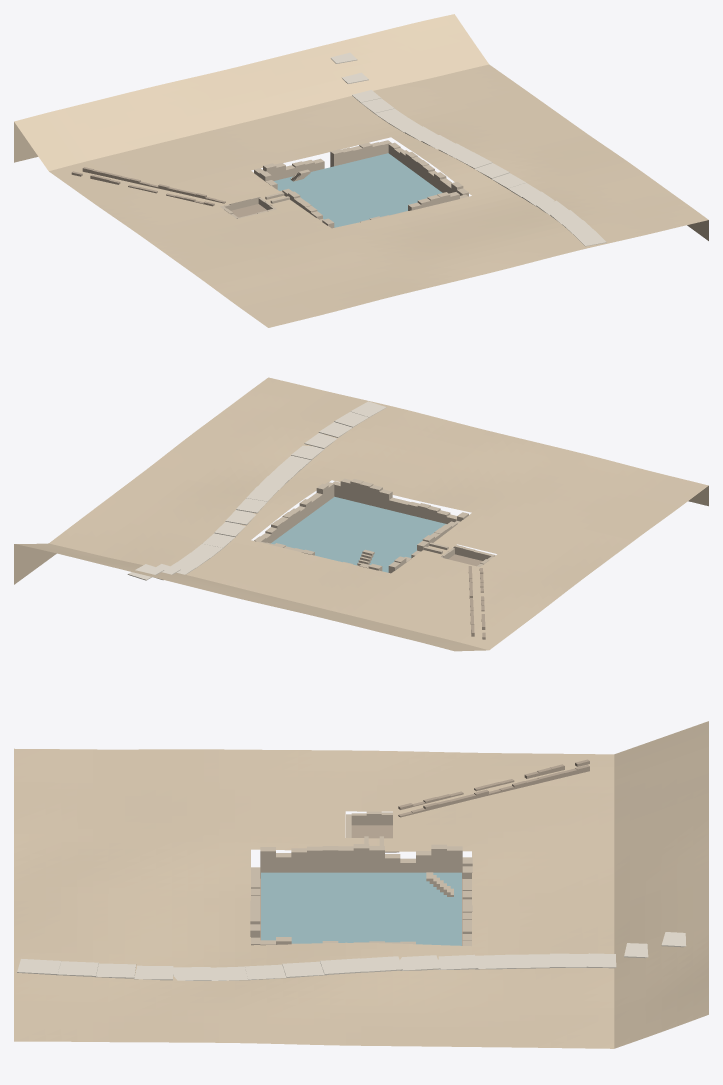
Rendered from birkat-mutawakkil.glb.
The picture shows the model from 3 angles, top to bottom: view 1: azimuth 30°, elevation 25°; view 2: azimuth 150°, elevation 25°; view 3: azimuth 270°, elevation 25°; orthographic projection. The views are drawn at different scales.
Visible parts, largest first — view 1: ground, water, stone, plaster, stoneDark; view 2: ground, water, stone, plaster, stoneDark; view 3: ground, water, plaster, stone, stoneDark.
Boxes of the visible parts, left/top/right/bottom form: ground: left=14, top=14, right=708, bottom=327; water: left=274, top=153, right=442, bottom=227; stone: left=220, top=140, right=468, bottom=228; plaster: left=330, top=52, right=606, bottom=246; stoneDark: left=71, top=167, right=266, bottom=217; ground: left=14, top=377, right=708, bottom=651; water: left=271, top=496, right=446, bottom=572; stone: left=254, top=478, right=495, bottom=573; plaster: left=127, top=401, right=386, bottom=580; stoneDark: left=448, top=554, right=485, bottom=639; ground: left=14, top=721, right=708, bottom=1048; water: left=261, top=872, right=461, bottom=945; plaster: left=17, top=932, right=686, bottom=980; stone: left=250, top=811, right=472, bottom=946; stoneDark: left=260, top=759, right=589, bottom=945.
Bounding box in the file's own units: 110 × 10.06 × 110.
